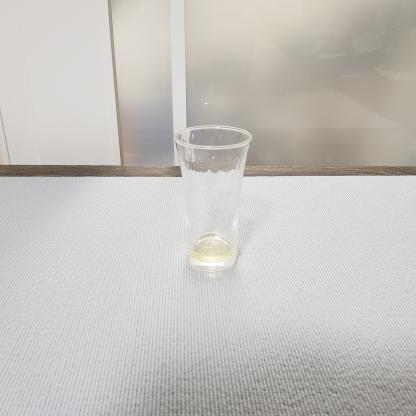glass: (170, 113, 261, 274)
